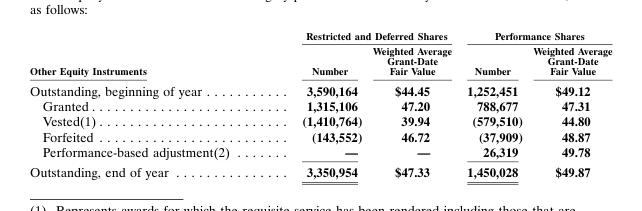table: (29, 28, 611, 179)
table column: (29, 28, 264, 179), (264, 28, 367, 179), (367, 28, 458, 179), (527, 28, 611, 179), (458, 28, 527, 179)
table column header: (29, 28, 611, 79)
table row: (29, 42, 611, 79), (29, 79, 611, 97), (29, 143, 611, 161), (29, 161, 611, 179), (29, 97, 611, 113), (29, 113, 611, 128), (29, 128, 611, 143), (29, 28, 611, 42)
table spanning cell: (29, 28, 264, 79), (264, 28, 458, 42), (458, 28, 611, 42)
